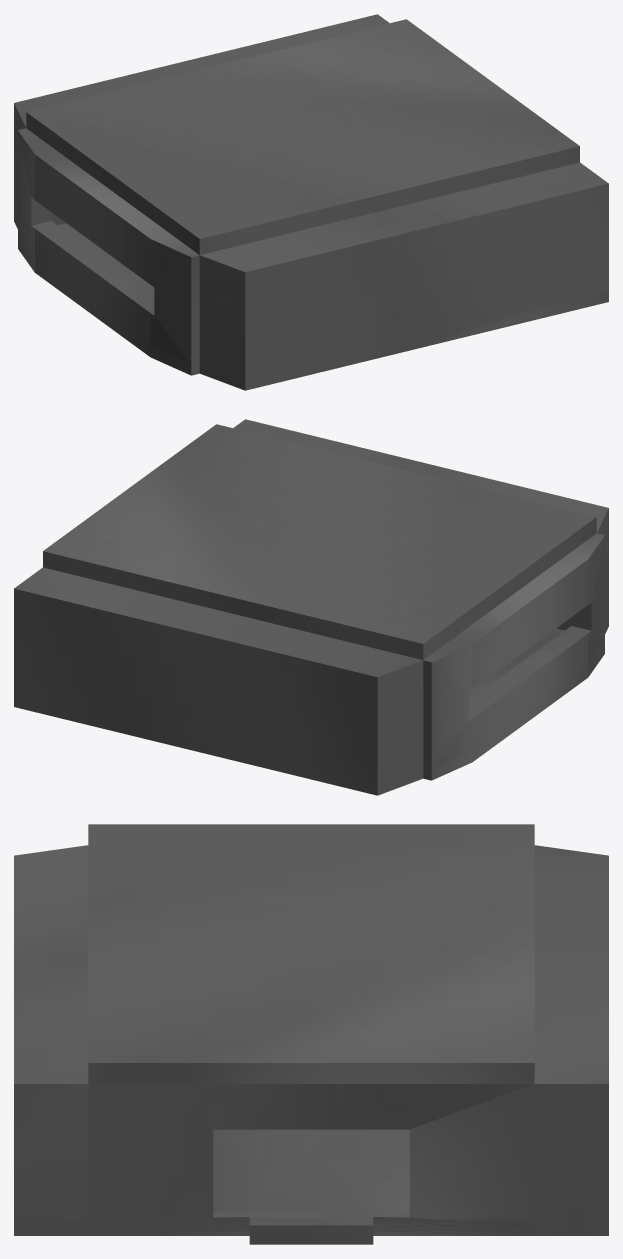
The model's file is bunker.glb.
3 views of the same model, one above another, from view 1: azimuth 30°, elevation 25°; view 2: azimuth 150°, elevation 25°; view 3: azimuth 270°, elevation 25° (orthographic). The views are drawn at different scales.
Visible parts, largest first — view 1: Cube.061; view 2: Cube.061; view 3: Cube.061.
Boxes of the visible parts, bbox=[...] form: Cube.061: bbox=[14, 14, 608, 390]; Cube.061: bbox=[14, 419, 608, 795]; Cube.061: bbox=[14, 824, 608, 1244].
Size of the model in its own units: 9.4 by 2.92 by 9.09.
1 material, 1 textured.
